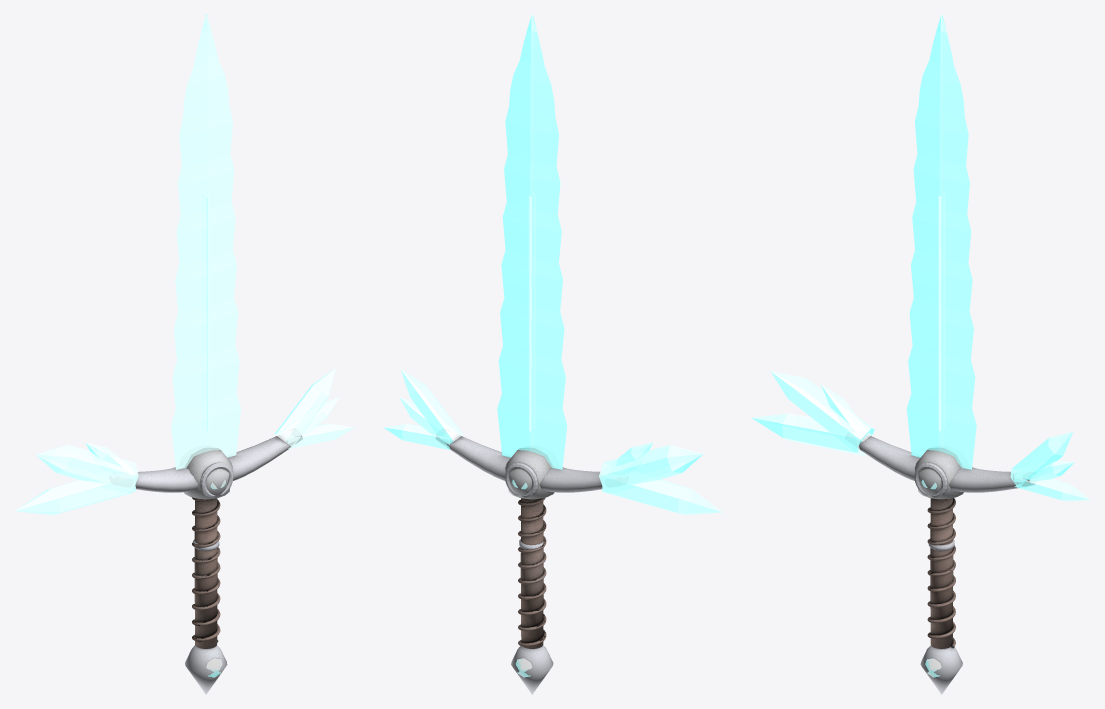
File: arma_lend_espada_gelo.glb
3 views of the same model, side by side, from view 1: azimuth 30°, elevation 25°; view 2: azimuth 150°, elevation 25°; view 3: azimuth 330°, elevation 25° (orthographic).
Parts seen in each view (by area): view 1: lamina, arma_lend_espada_gelo, guarda_ac-11, guarda_ac-10, guarda_ac12, lamina_runa-1, guarda_ac11, guarda_ac10, guarda_ac-12, lamina_runa1; view 2: lamina, arma_lend_espada_gelo, guarda_ac-11, guarda_ac-10, guarda_ac12, lamina_runa1, lamina_runa-1, guarda_ac10, guarda_ac11, guarda_ac-12; view 3: lamina, arma_lend_espada_gelo, guarda_ac-11, guarda_ac-10, guarda_ac12, guarda_ac10, lamina_runa-1, guarda_ac-12, guarda_ac11, lamina_runa1.
Boxes of the visible parts, x1,y1,x2,y2 form: lamina: (171, 14, 240, 469); arma_lend_espada_gelo: (135, 435, 302, 694); guarda_ac-11: (35, 445, 138, 492); guarda_ac-10: (14, 466, 135, 514); guarda_ac12: (274, 368, 335, 447); lamina_runa-1: (206, 196, 209, 431); guarda_ac11: (278, 397, 339, 439); guarda_ac10: (288, 423, 354, 448); guarda_ac-12: (86, 443, 132, 473); lamina_runa1: (203, 194, 205, 428); lamina: (497, 14, 567, 469); arma_lend_espada_gelo: (436, 435, 602, 694); guarda_ac-11: (599, 445, 703, 492); guarda_ac-10: (602, 466, 721, 514); guarda_ac12: (401, 369, 463, 446); lamina_runa1: (528, 196, 531, 431); lamina_runa-1: (532, 194, 535, 428); guarda_ac10: (383, 424, 450, 450); guarda_ac11: (399, 397, 459, 440); guarda_ac-12: (605, 442, 652, 474); lamina: (906, 14, 976, 469); arma_lend_espada_gelo: (858, 435, 1034, 694); guarda_ac-11: (770, 371, 874, 451); guarda_ac-10: (752, 413, 870, 456); guarda_ac12: (1010, 432, 1072, 487); guarda_ac10: (1014, 476, 1090, 501); lamina_runa-1: (938, 196, 941, 431); guarda_ac-12: (821, 384, 871, 442); guarda_ac11: (1014, 460, 1074, 483); lamina_runa1: (942, 194, 944, 428).
Bounding box in the file's own units: 0.7755 × 1.48 × 0.1088.
14 materials, 1 textured.
